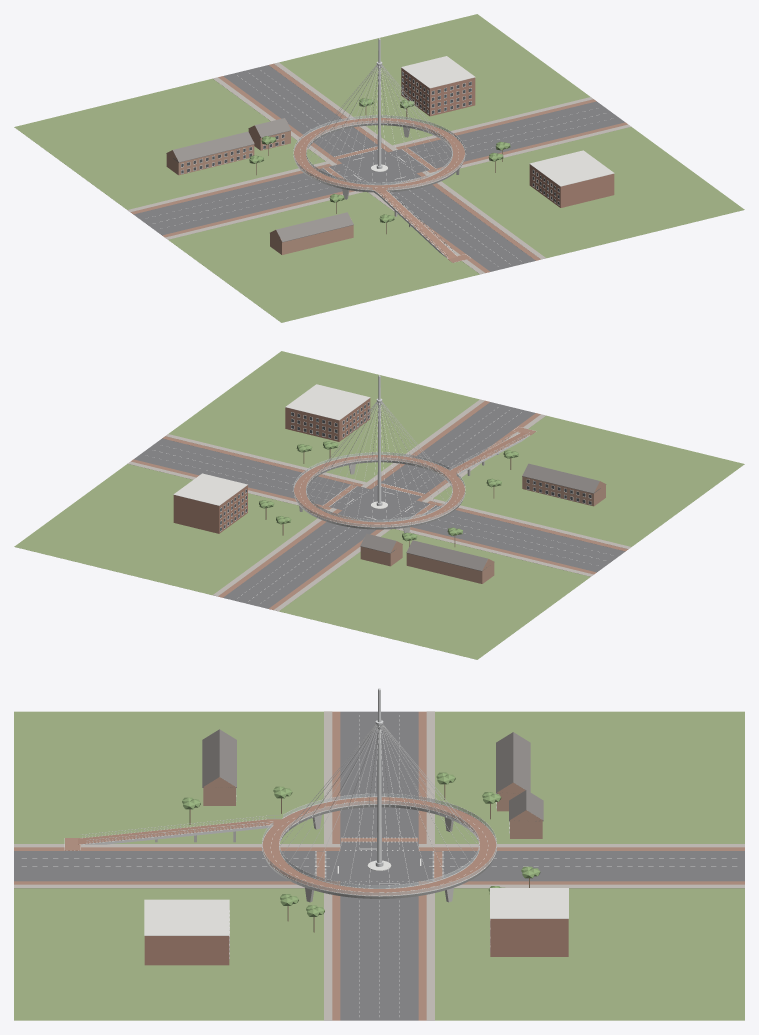
The model's file is clay-cable-stayed-cycle-ring-clay-v002.glb.
3 views of the same model, one above another, from view 1: azimuth 30°, elevation 25°; view 2: azimuth 150°, elevation 25°; view 3: azimuth 270°, elevation 25° (orthographic). The views are drawn at different scales.
Parts seen in each view (by area): view 1: CLAY_GRASS, CLAY_ASPHALT, CLAY_CYCLE, CLAY_PAVING, CLAY_TRIM, CLAY_BRICK, CLAY_RED, CLAY_ROOF, CLAY_BRICK2, CLAY_CABLE, CLAY_WHITE, CLAY_GLASS (+5 smaller); view 2: CLAY_GRASS, CLAY_ASPHALT, CLAY_CYCLE, CLAY_PAVING, CLAY_TRIM, CLAY_BRICK, CLAY_RED, CLAY_BRICK2, CLAY_ROOF, CLAY_CABLE, CLAY_WHITE, CLAY_GLASS (+5 smaller); view 3: CLAY_GRASS, CLAY_ASPHALT, CLAY_CYCLE, CLAY_PAVING, CLAY_RED, CLAY_TRIM, CLAY_BRICK, CLAY_ROOF, CLAY_CABLE, CLAY_WHITE, CLAY_GLASS, CLAY_RAIL (+4 smaller).
Part boxes in pixels (x1,y1,x2,y2): CLAY_GRASS: (14, 14, 744, 322); CLAY_ASPHALT: (133, 65, 624, 271); CLAY_CYCLE: (131, 63, 627, 272); CLAY_PAVING: (127, 62, 631, 274); CLAY_TRIM: (181, 56, 614, 205); CLAY_BRICK: (401, 68, 614, 207); CLAY_RED: (294, 118, 464, 258); CLAY_ROOF: (166, 118, 353, 242); CLAY_BRICK2: (166, 122, 353, 254); CLAY_CABLE: (307, 65, 451, 180); CLAY_WHITE: (293, 117, 470, 262); CLAY_GLASS: (293, 115, 464, 189); CLAY_GRASS: (14, 351, 744, 659); CLAY_ASPHALT: (134, 402, 625, 608); CLAY_CYCLE: (131, 400, 627, 609); CLAY_PAVING: (127, 399, 631, 611); CLAY_TRIM: (173, 384, 591, 531); CLAY_BRICK: (173, 398, 370, 533); CLAY_RED: (294, 432, 530, 526); CLAY_BRICK2: (360, 476, 605, 583); CLAY_ROOF: (360, 463, 606, 571); CLAY_CABLE: (307, 402, 451, 517); CLAY_WHITE: (294, 426, 536, 529); CLAY_GLASS: (294, 452, 465, 526); CLAY_GRASS: (14, 711, 744, 1020); CLAY_ASPHALT: (14, 711, 744, 1020); CLAY_CYCLE: (14, 711, 744, 1020); CLAY_PAVING: (14, 711, 744, 1020); CLAY_RED: (78, 797, 496, 895); CLAY_TRIM: (144, 788, 568, 959); CLAY_BRICK: (144, 919, 568, 965); CLAY_ROOF: (202, 729, 543, 821); CLAY_CABLE: (280, 724, 478, 887); CLAY_WHITE: (64, 796, 496, 898); CLAY_GLASS: (262, 794, 496, 895); CLAY_RAIL: (80, 793, 496, 895).
Bounding box in the file's own units: 224 × 60 × 224.
